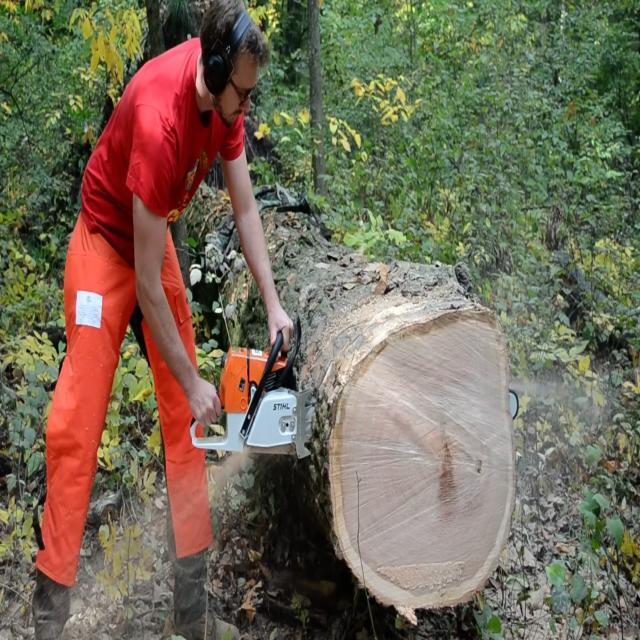Chainsaw: (178, 332, 534, 468)
